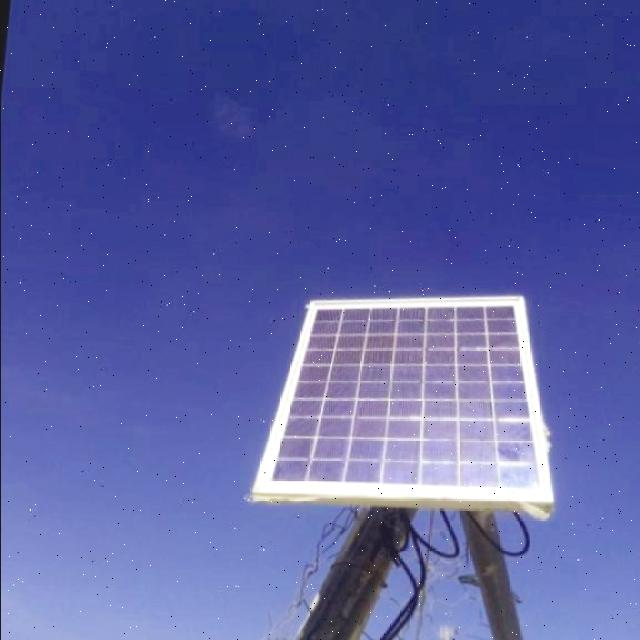Normal Solar Panel: (246, 263, 575, 524)
